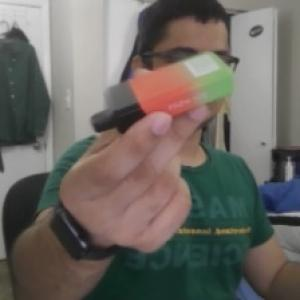Swift-E-Ciggirate: (82, 46, 234, 138)
